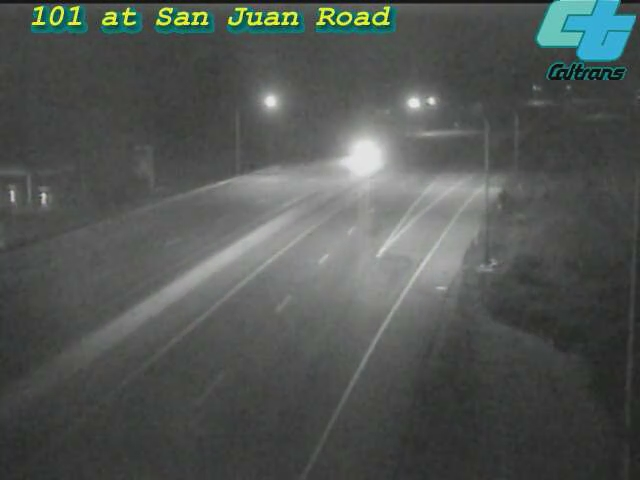vehicle: (341, 127, 391, 177)
